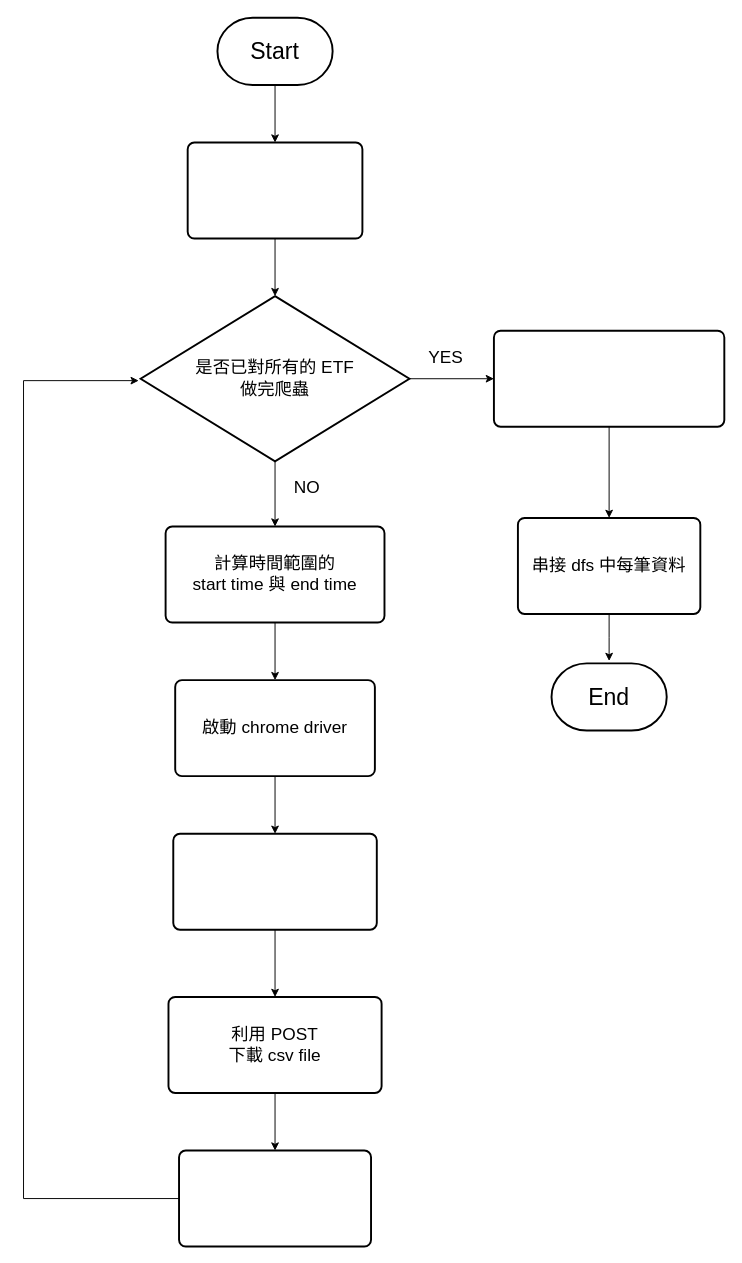
The diagram is 742 pixels wide and 1263 high, and some of its shapes have lost their labels. The box of each missing label's shape, as (x1, y1, x2, y2) in pixels:
利用 css_selector 定位 網頁裡 csv file 的網址: (172, 832, 377, 930)
將資料 append 至 dfs: (178, 1149, 372, 1247)
移除 dfs 中第一筆資料之外 的 Date column: (492, 329, 725, 427)
集合所有的 ETF 至 Yahoo_ETFs: (186, 141, 363, 239)
